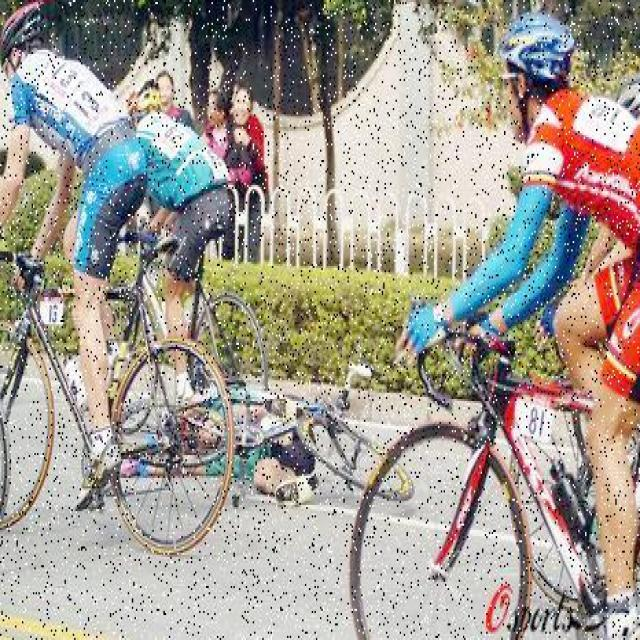fall: (165, 399, 336, 496)
